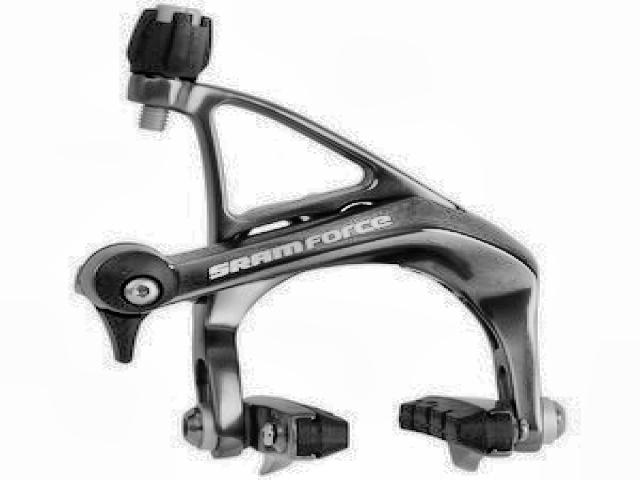rim_brake: (68, 8, 568, 479)
